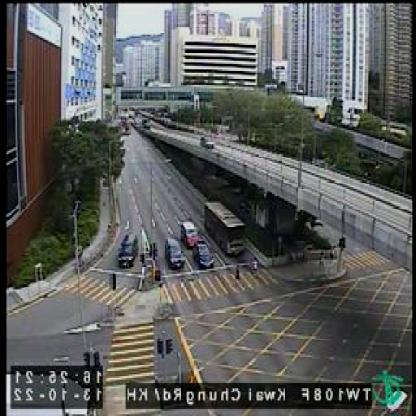Car: (164, 238, 186, 271), (118, 232, 136, 270), (179, 221, 198, 249), (192, 240, 212, 266), (5, 146, 16, 166)
Truck: (204, 200, 245, 258)
